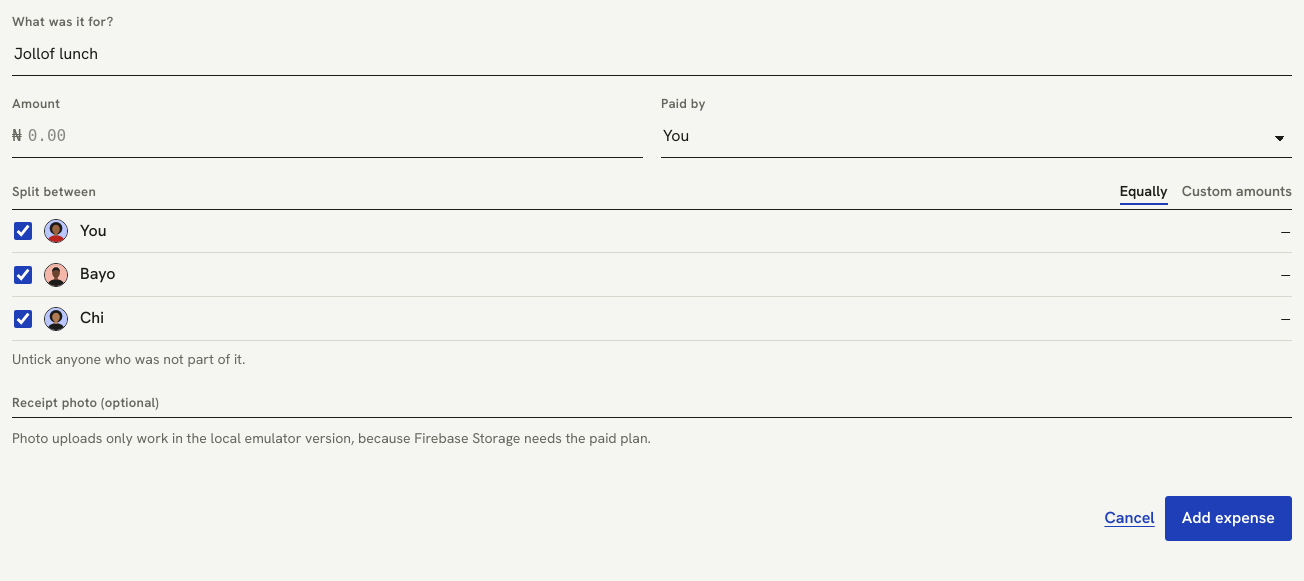
Test: <ExpenseForm> custom amounts › refuses to submit while the amounts do not add up
Earlier steps of the test are not shown.
Type "100" into the field labelled "Amount" at (334, 137), box [26, 116, 643, 157]
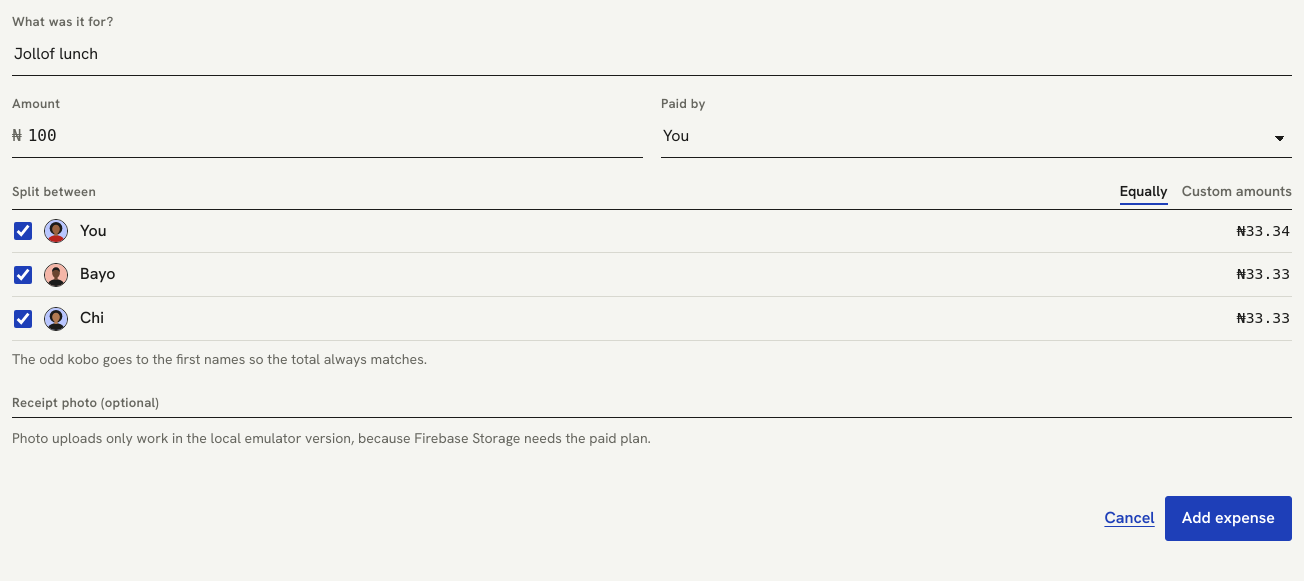
Click the button "Custom amounts" at (1237, 192), box [1182, 180, 1292, 205]
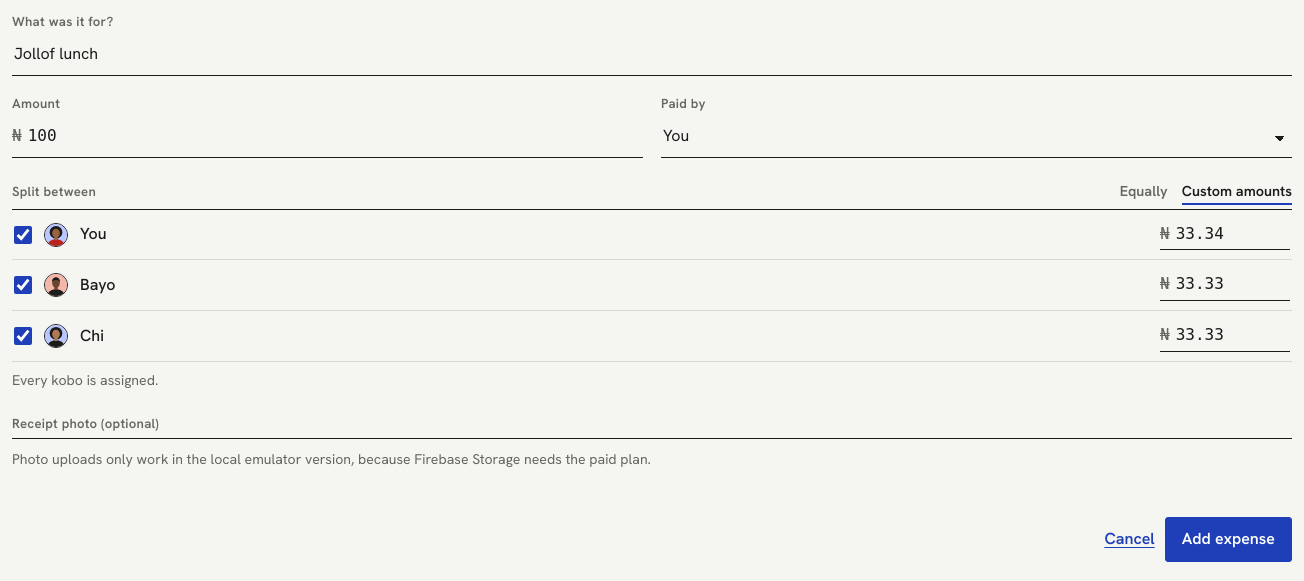
Replace the text in the field named "Amount for You" with "50" at (1232, 234), box [1174, 219, 1290, 249]
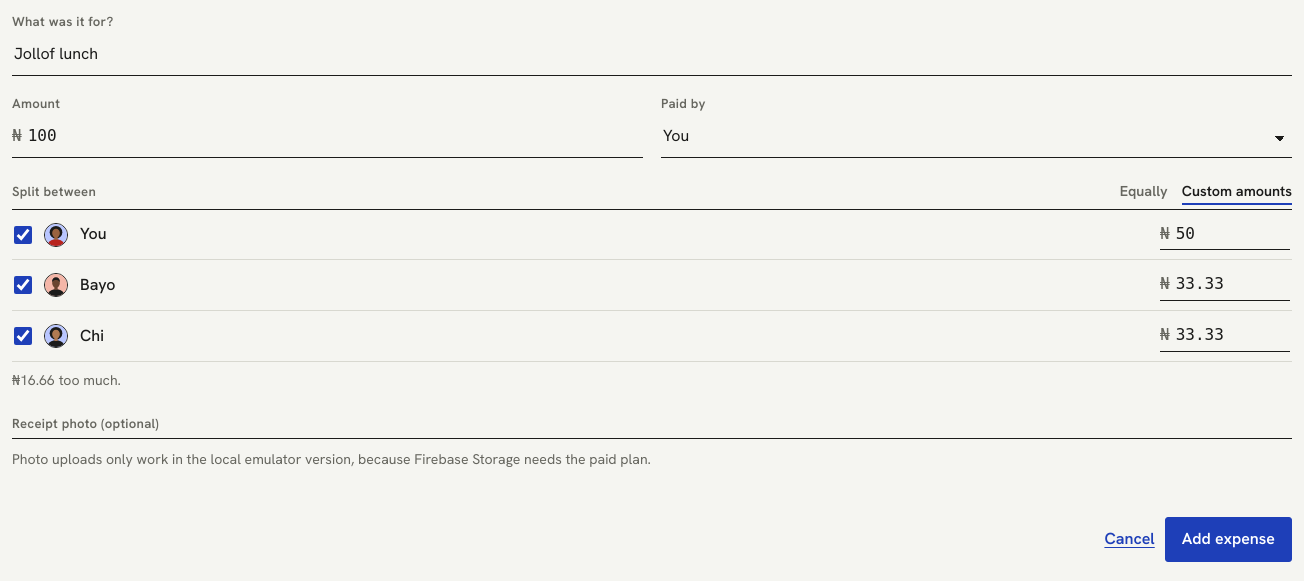
Replace the text in the field named "Amount for Bayo" with "30" at (1232, 285), box [1174, 269, 1290, 300]
Clear the field named "Amount for Chi" at (1232, 336), box [1174, 320, 1290, 351]
Click the button "Add expense" at (1228, 540), box [1165, 517, 1292, 562]
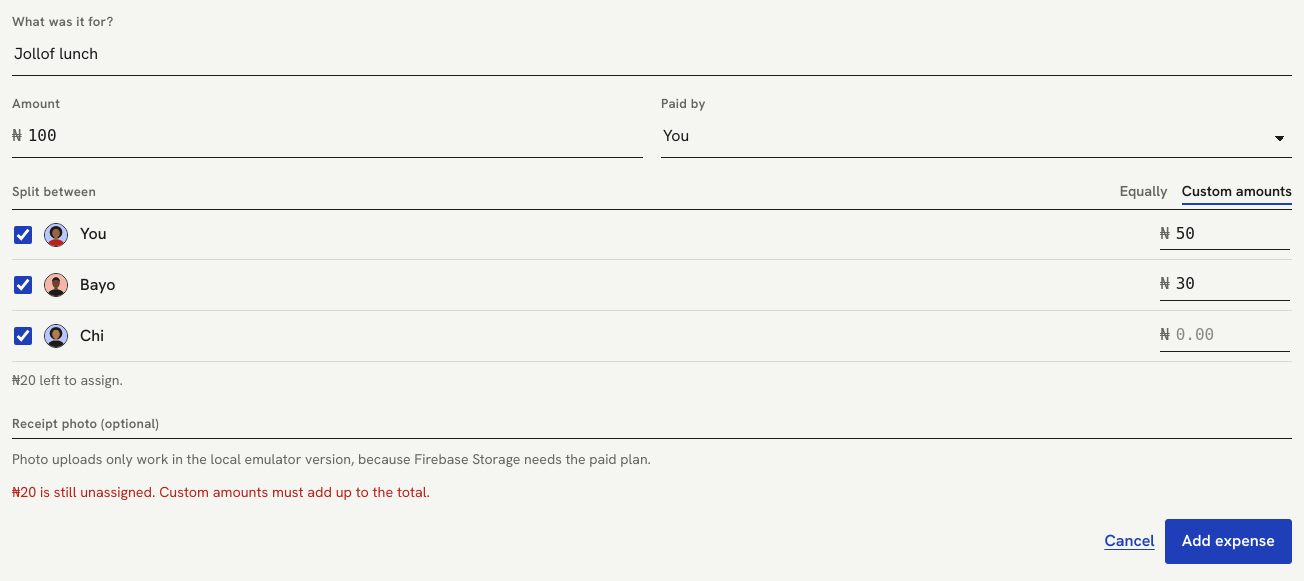
Result: the message reads "₦20 is still unassigned. Custom amounts must add up to the total." at [12, 483, 430, 501]
Type "25.50" into the field named "Amount for Chi" at (1232, 336), box [1174, 320, 1290, 351]
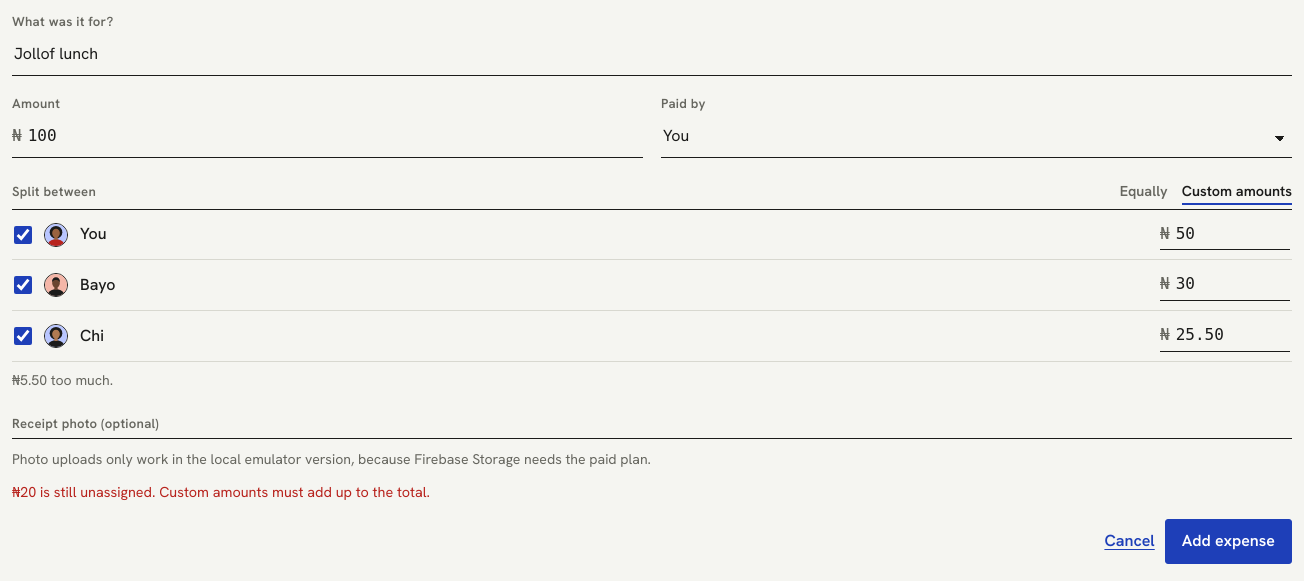
Click the button "Add expense" at (1228, 542), box [1165, 519, 1292, 564]
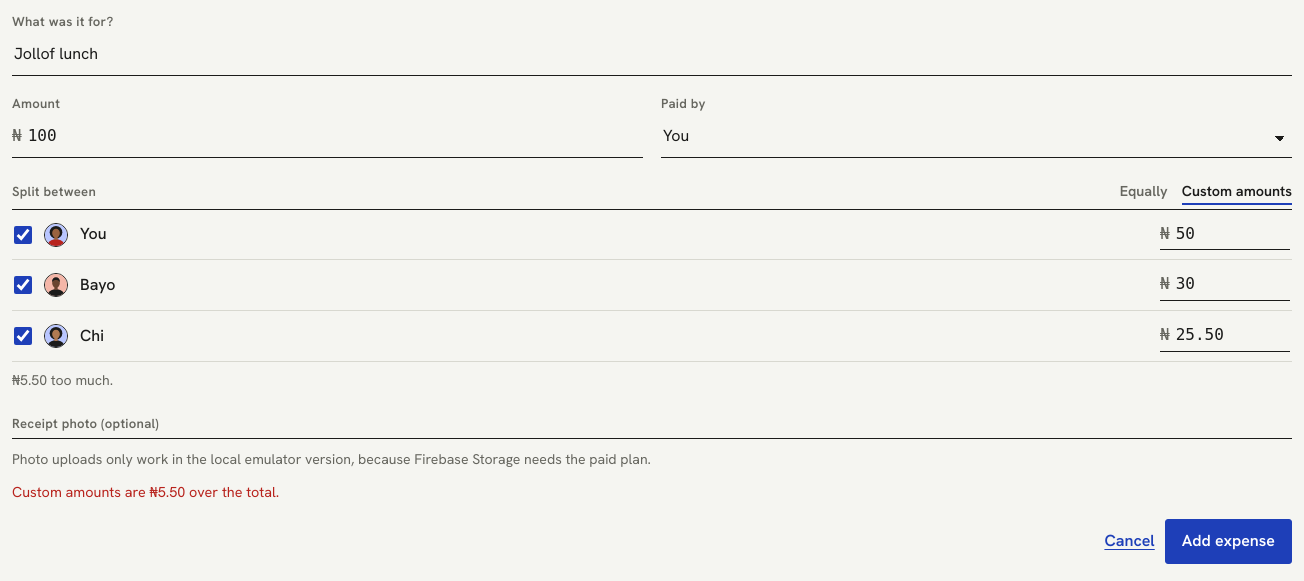
Result: the message reads "Custom amounts are ₦5.50 over the total." at [12, 483, 279, 501]
